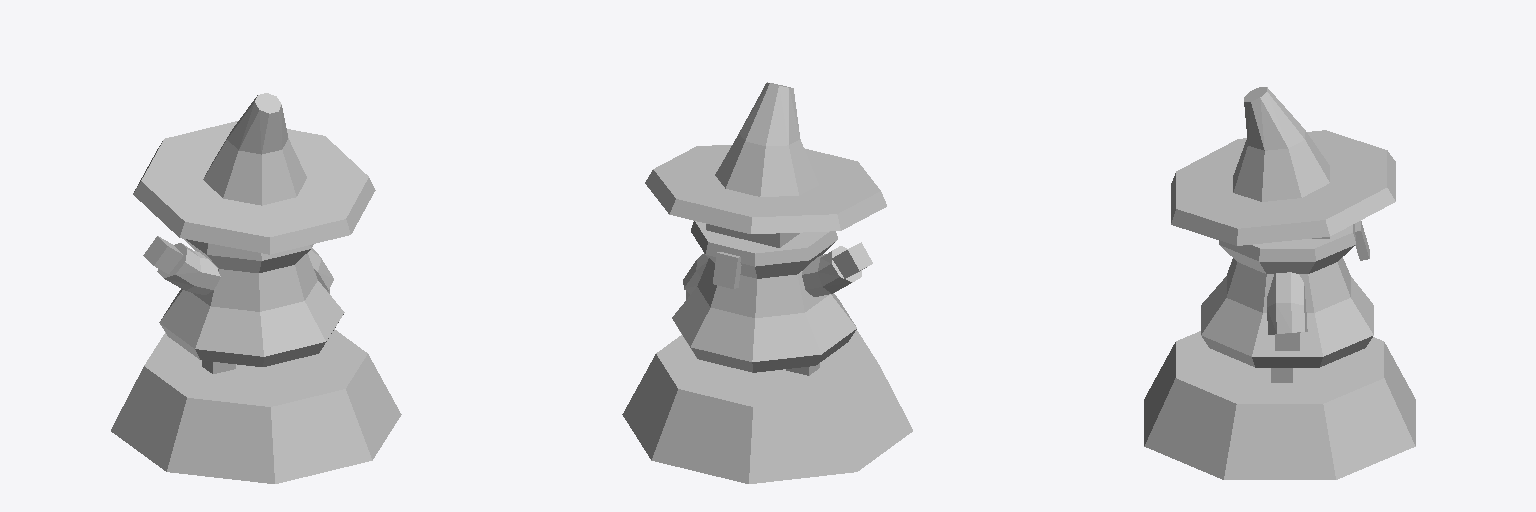
The model's file is wizard.obj.
3 views of the same model, side by side, from view 1: azimuth 30°, elevation 25°; view 2: azimuth 150°, elevation 25°; view 3: azimuth 270°, elevation 25° (orthographic).
Parts seen in each view (by area): view 1: ArmWand.001_Cylinder.001; view 2: ArmWand.001_Cylinder.001; view 3: ArmWand.001_Cylinder.001.
Boxes of the visible parts, box(x1,y1,x2,y2) form: ArmWand.001_Cylinder.001: box(111, 93, 401, 483); ArmWand.001_Cylinder.001: box(622, 82, 912, 483); ArmWand.001_Cylinder.001: box(1144, 87, 1415, 479).
Bounding box in the file's own units: 0.6553 × 0.8887 × 0.6553.